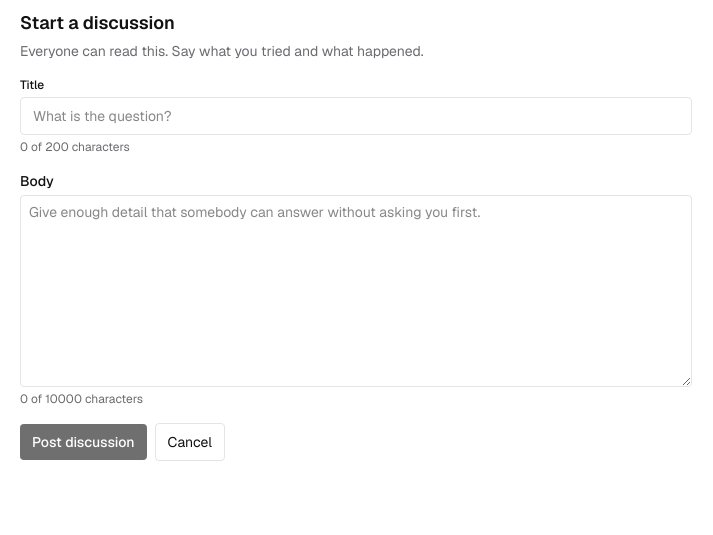
Test case: NewDiscussion › says something when the refusal came with no reason at all
In the field labelled "Title": x=356, y=116 [20,97,692,135], type "x"
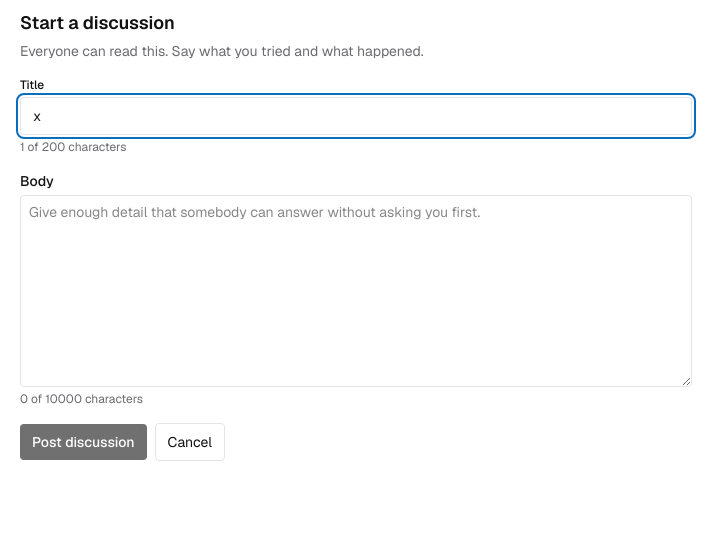
In the text box labelled "Body": x=356, y=291 [20,195,692,387], type "y"
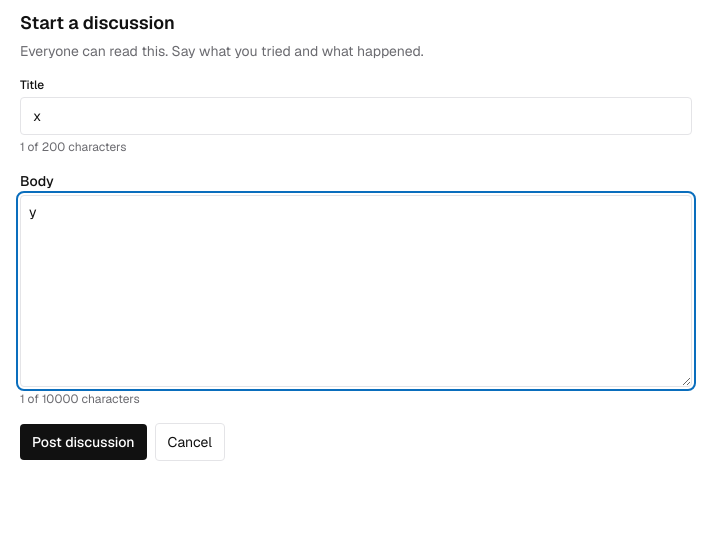
Click the button "Post discussion": x=83, y=442 [20,424,147,460]
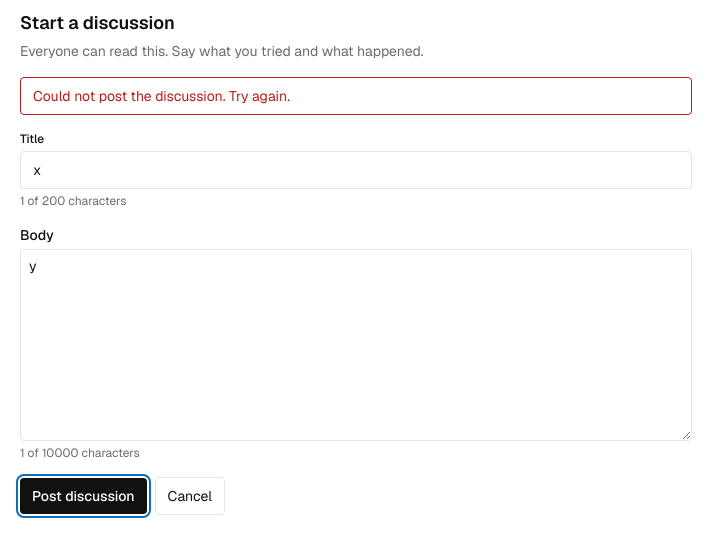
Check: the text "Could not post the discussion. Try again." is shown, box [20,77,692,115]
